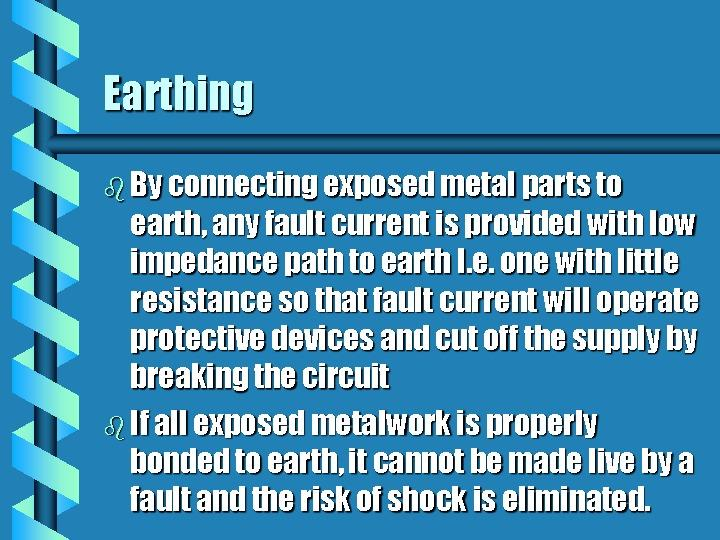paragraph: (104, 159, 709, 527)
title: (98, 63, 275, 128)
